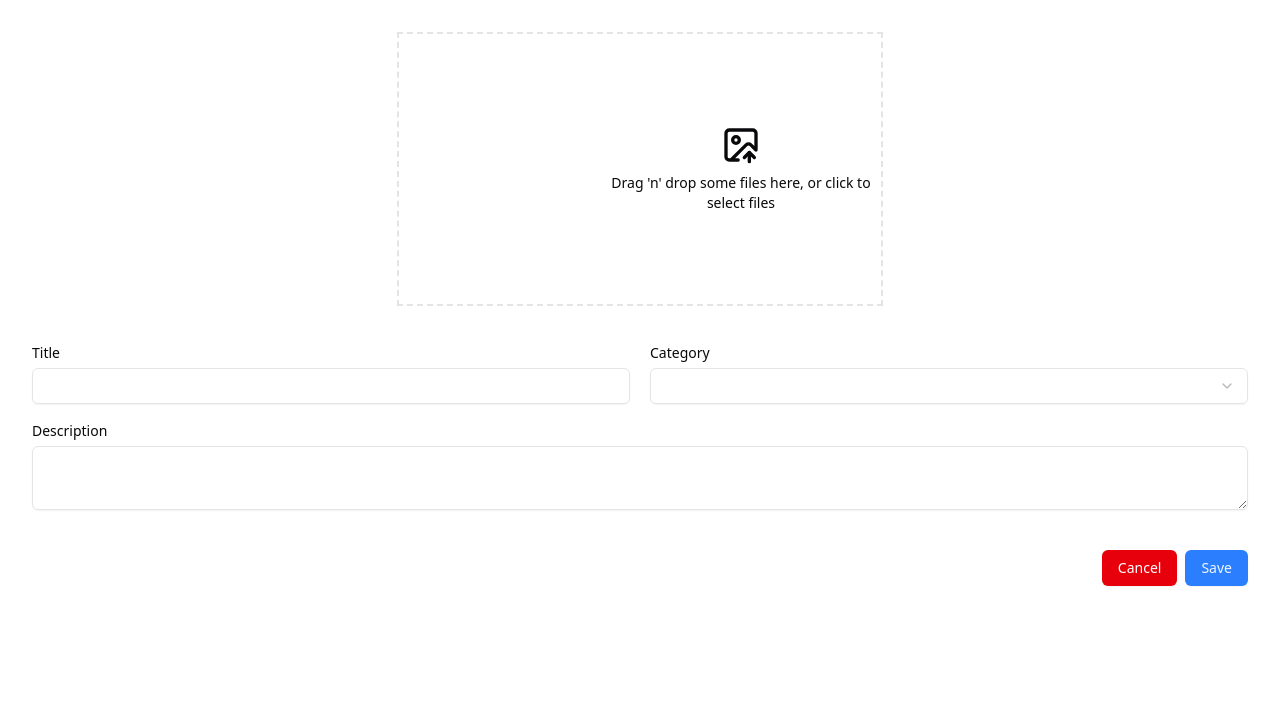
Test: ArticleCreate › displays validation errors when submitting an empty form
Click the button "Save".
click(1217, 568)  # box top-left (1185, 550), bottom-right (1248, 586)
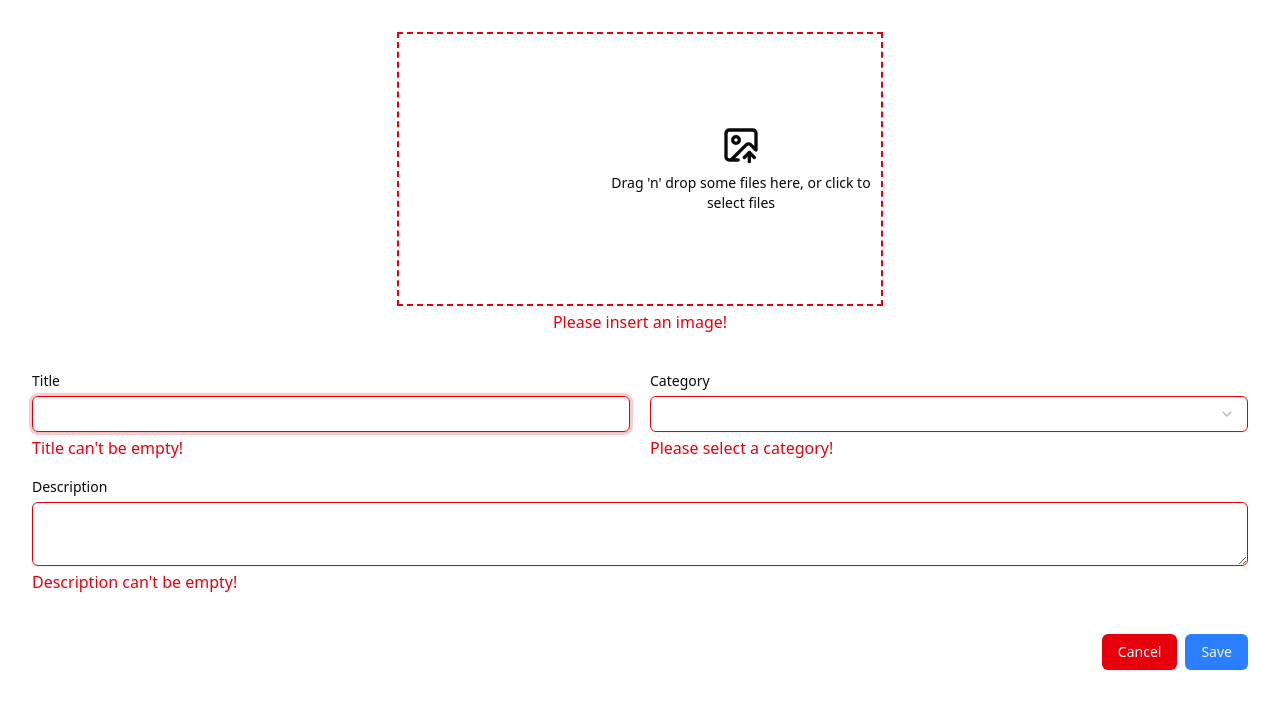
Now the text "Please insert an image!" is shown, box top-left (553, 311), bottom-right (727, 333)
Now the text "Title can't be empty!" is shown, box top-left (32, 437), bottom-right (183, 459)
Now the text "Please select a category!" is shown, box top-left (650, 437), bottom-right (833, 459)
